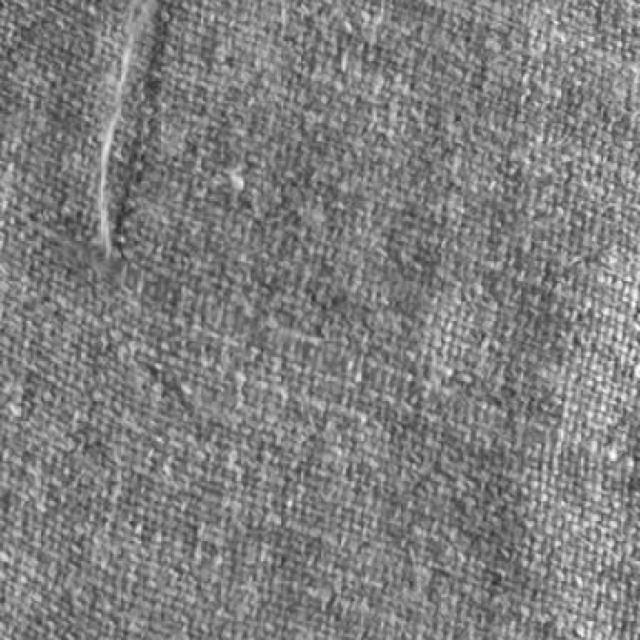Thread_other: (20, 2, 210, 306)
